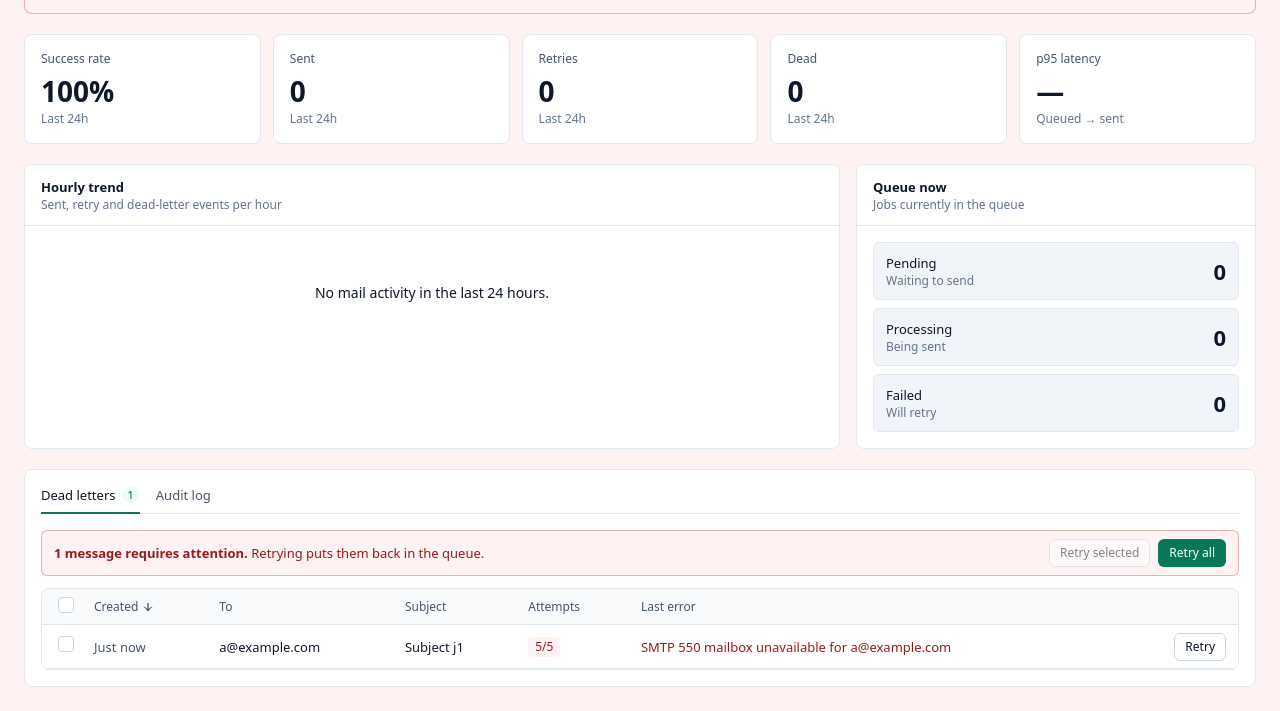
Scenario: Mailer ops › shows the full error in a details drawer
The image size is (1280, 711).
(page scrolled)
Click the text "a@example.com" at {"x": 270, "y": 646}, box [219,638,320,656]
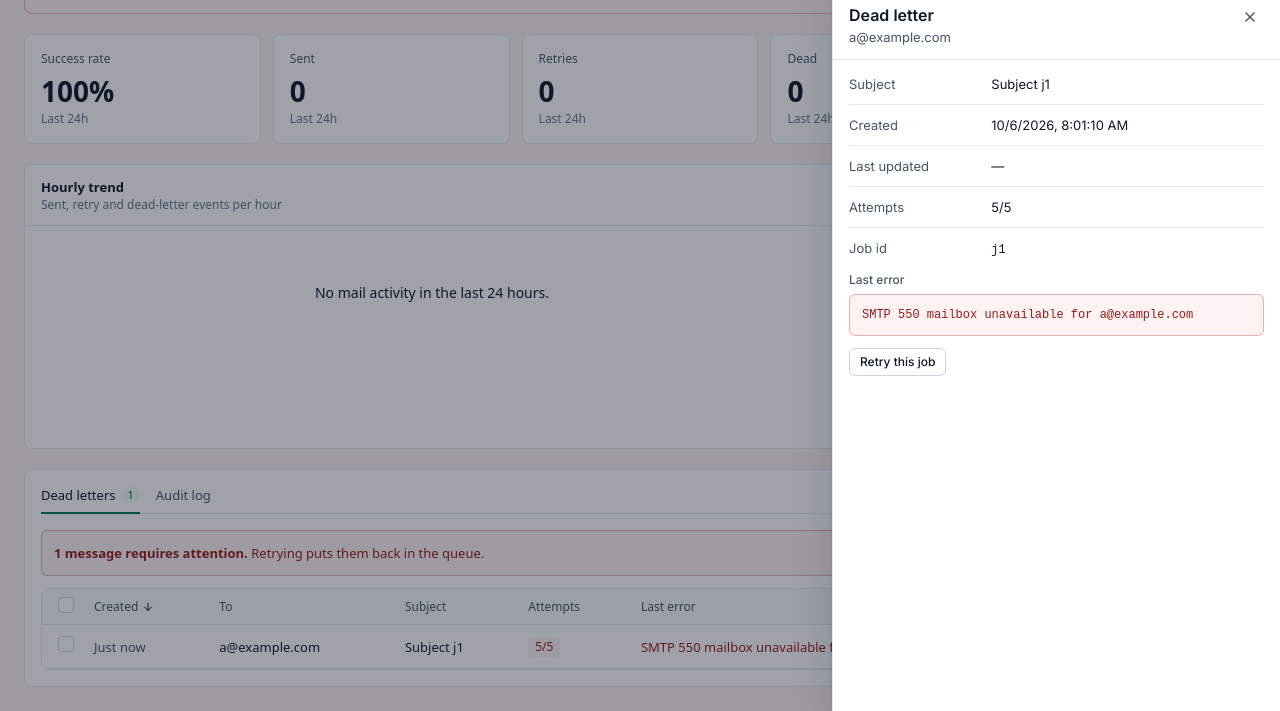
Check: the text "Last error" is shown, box [849,272,904,287]
Check: the text "SMTP 550 mailbox unavailable for a@example.com" is shown, box [849,294,1264,336]
Check: the text "j1" is shown, box [991,243,1006,257]
